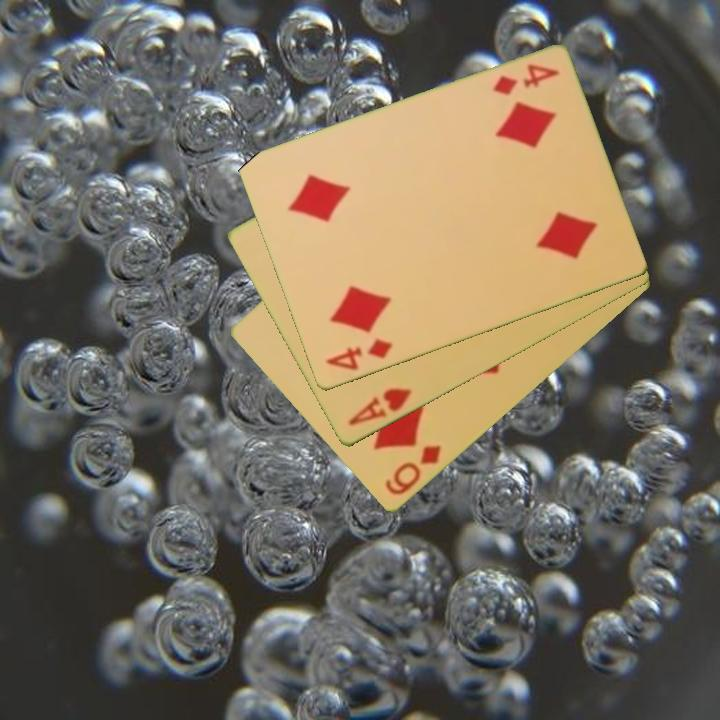4d: (321, 334, 395, 374), (489, 61, 562, 99)
6d: (381, 441, 444, 499)
Ah: (345, 385, 415, 430)
